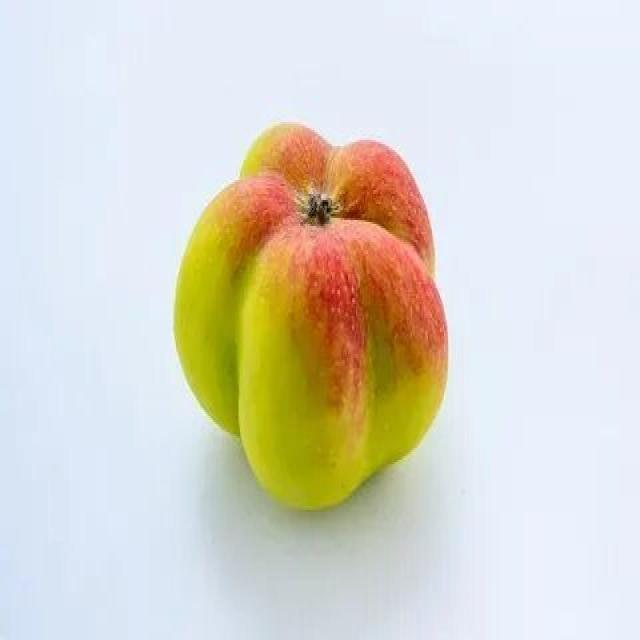Healty Apple: (175, 123, 446, 509)
